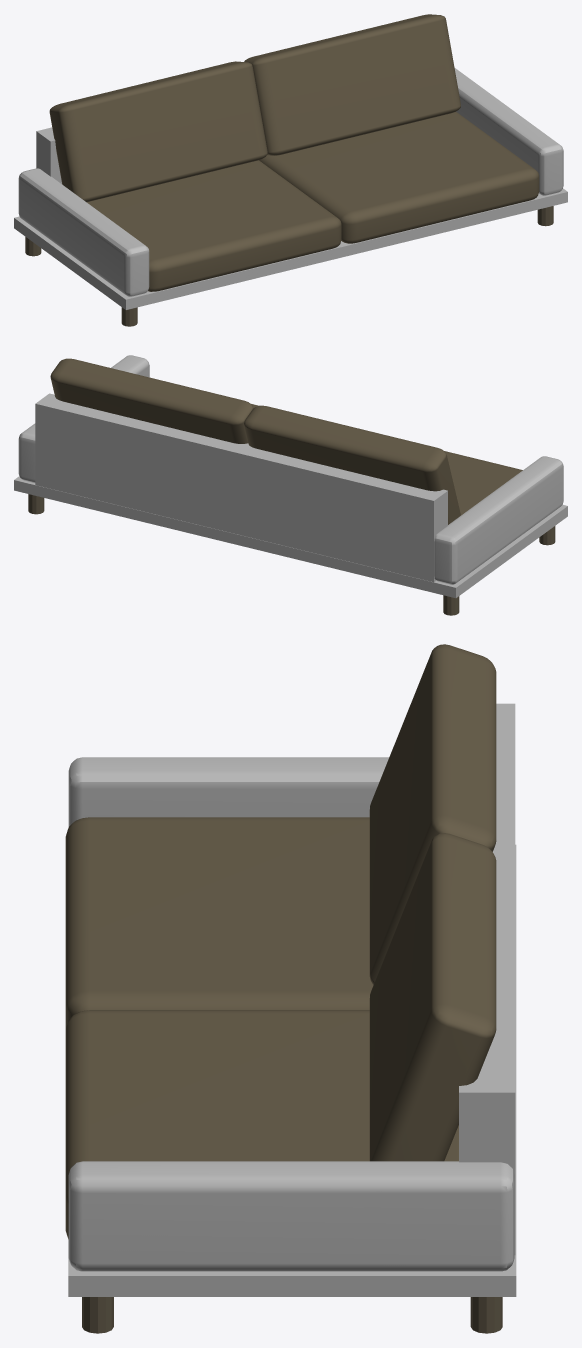
Rendered from Sofa.fbx.
3 views of the same model, one above another, from view 1: azimuth 30°, elevation 25°; view 2: azimuth 150°, elevation 25°; view 3: azimuth 270°, elevation 25° (orthographic). The views are drawn at different scales.
Parts seen in each view (by area): view 1: polySurface7, pCube4, pCube9, pCube8, pCube7; view 2: polySurface7, pCube9, pCube8, pCube7; view 3: polySurface7, pCube7, pCube4, pCube8, pCube9.
Boxes of the visible parts, x1,y1,x2,y2 form: polySurface7: (14,68,567,326); pCube4: (259,112,539,243); pCube9: (49,61,267,202); pCube8: (244,14,460,155); pCube7: (87,160,341,291); polySurface7: (14,355,567,615); pCube9: (244,405,460,524); pCube8: (50,358,253,443); pCube7: (444,451,522,515); polySurface7: (68,703,516,1333); pCube7: (65,817,373,1028); pCube4: (65,1010,458,1239); pCube8: (369,833,496,1161); pCube9: (369,644,496,984).
Bounding box in the file's own units: 2.66 × 0.8584 × 1.17.
